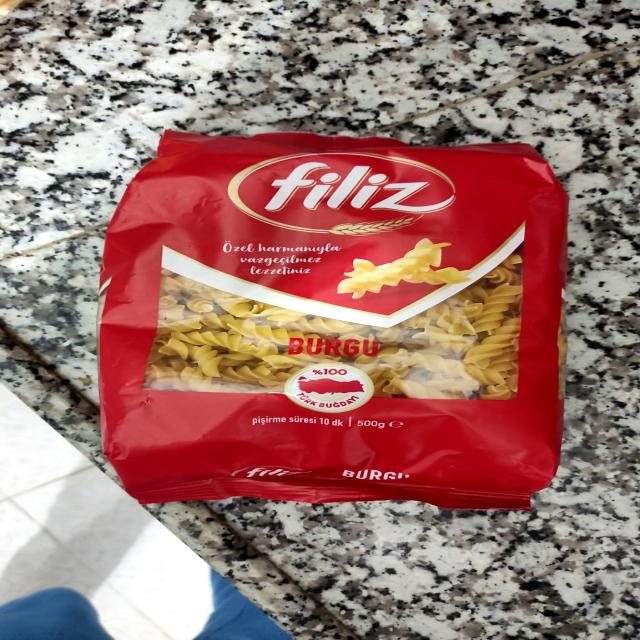fusilli pasta: (111, 133, 561, 502)
